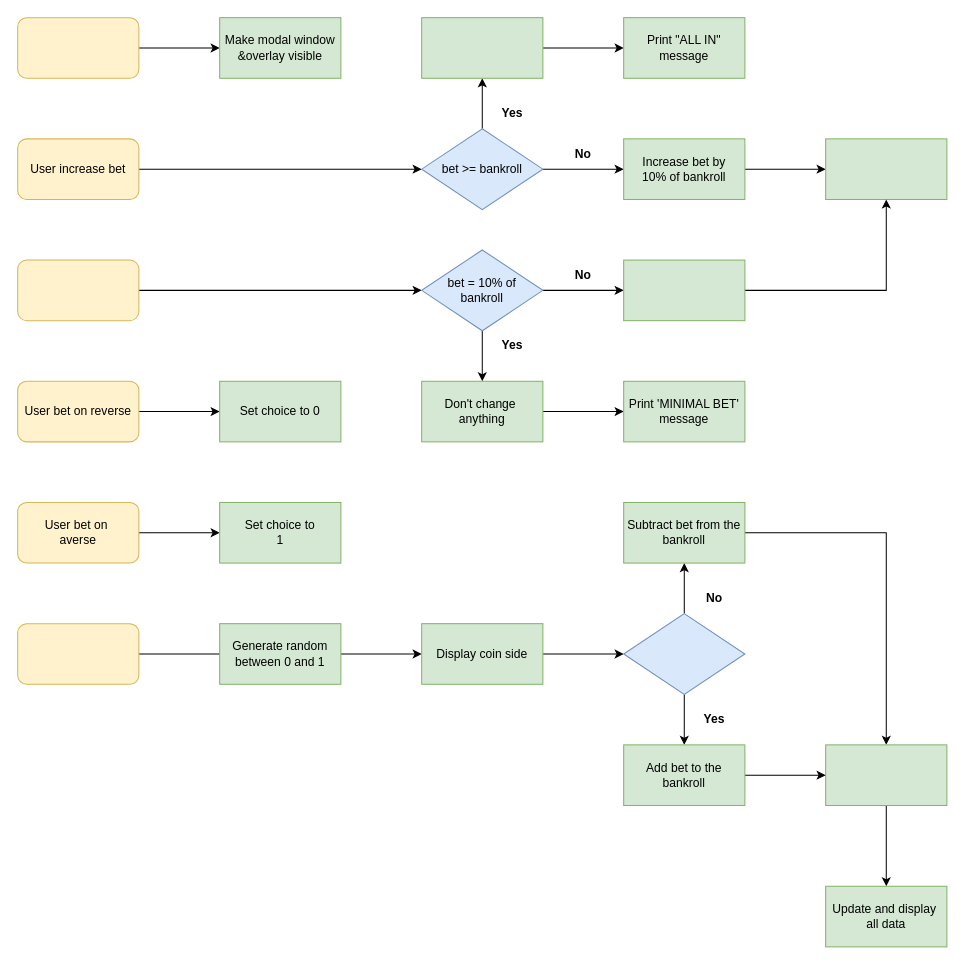
The diagram is 965 pixels wide and 965 high, and some of its shapes have lost their labels. The box of each missing label's shape, as (x1, y1, x2, y2) in pixels:
Decrease bet by 10% of bankroll: (623, 259, 745, 321)
Increase 'turns' by 1: (825, 744, 947, 805)
Set bet = 100% of bankroll: (421, 17, 543, 78)
Update bet and potential reward: (825, 138, 947, 199)
User checks the rules: (17, 17, 139, 78)
User decrease bet: (17, 259, 139, 321)
User toss a coin: (17, 623, 139, 684)
user wins: (623, 613, 745, 694)
